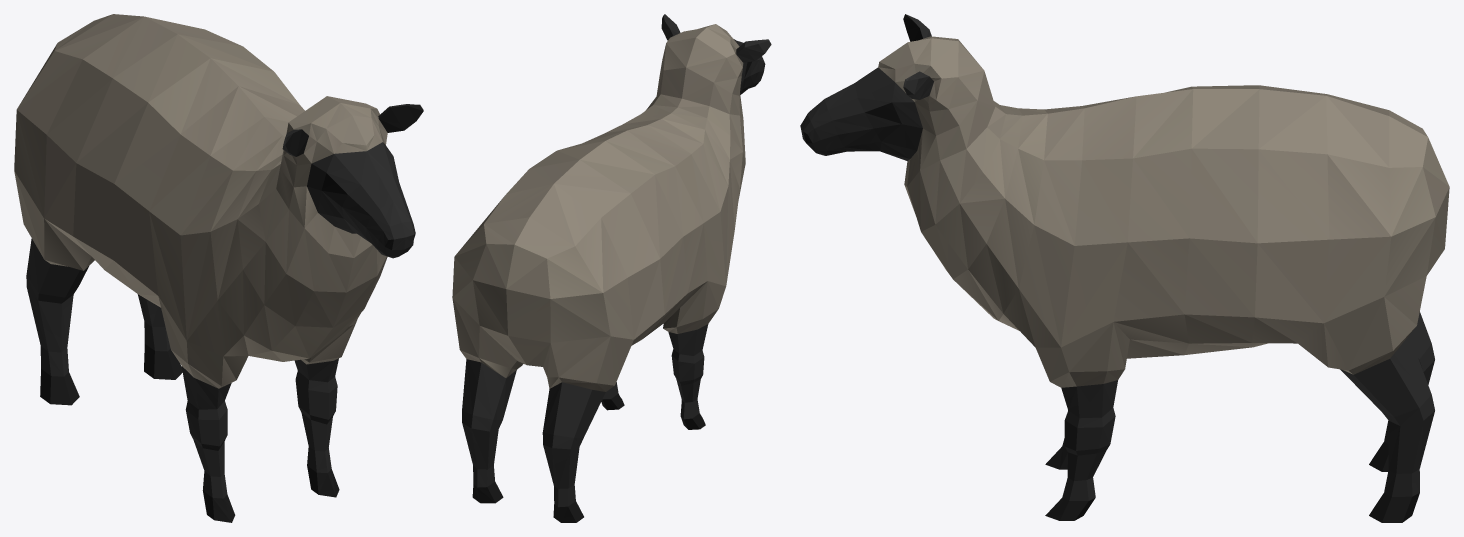
Rendered from sheep_lod0.glb.
3 views of the same model, side by side, from view 1: azimuth 30°, elevation 25°; view 2: azimuth 150°, elevation 25°; view 3: azimuth 270°, elevation 25° (orthographic). The views are drawn at different scales.
Visible parts, largest first — view 1: sheep; view 2: sheep; view 3: sheep.
Boxes of the visible parts, x1,y1,x2,y2 form: sheep: (14, 14, 423, 522); sheep: (452, 14, 771, 522); sheep: (800, 14, 1449, 522).
Bounding box in the file's own units: 0.5228 × 1.05 × 1.37.
